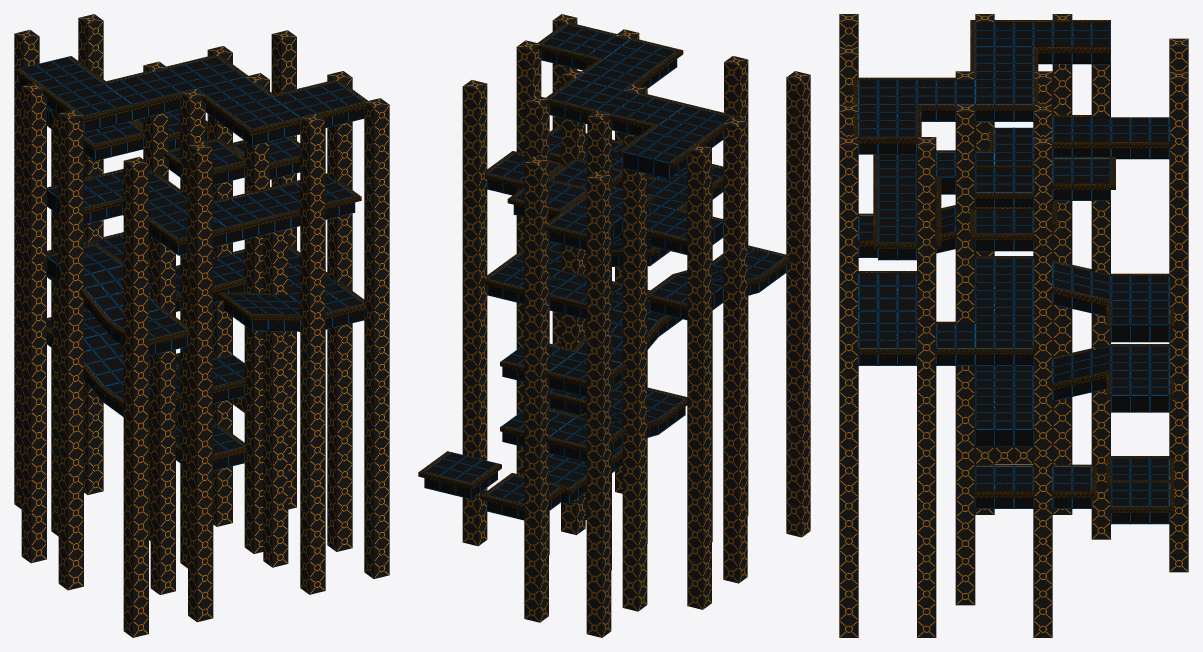
The model's file is bpxbridge_nomp.dae.
The picture shows the model from 3 angles, left to right: view 1: azimuth 30°, elevation 25°; view 2: azimuth 150°, elevation 25°; view 3: azimuth 270°, elevation 25°; orthographic projection. The views are drawn at different scales.
Visible parts, largest first — view 1: bpxbridge_nomp; view 2: bpxbridge_nomp; view 3: bpxbridge_nomp.
Part boxes in pixels (box(x1,y1,x2,y2)): bpxbridge_nomp: box(14, 14, 389, 637); bpxbridge_nomp: box(418, 14, 810, 637); bpxbridge_nomp: box(839, 14, 1188, 637).
Bounding box in the file's own units: 256 × 288 × 448.
Materials: 3 (3 with a texture image).
